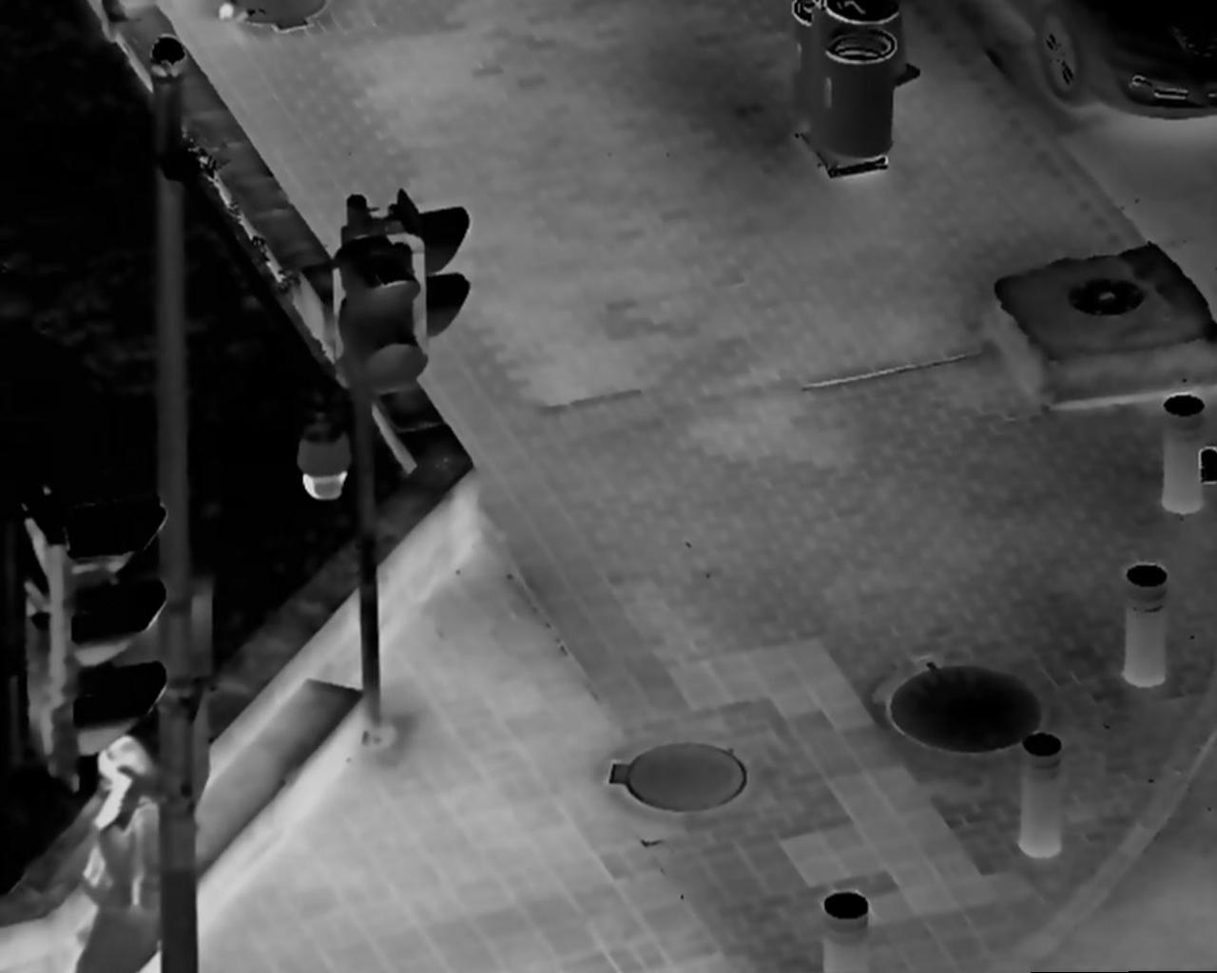person: (52, 731, 197, 973)
